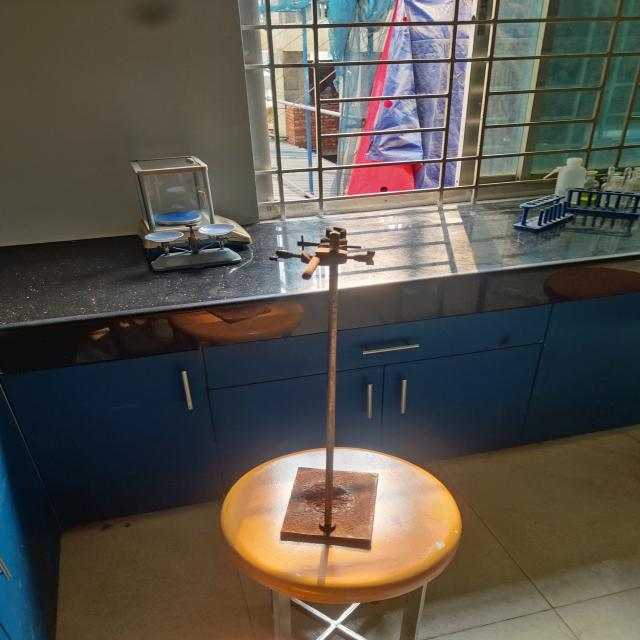Burette_Stands: (263, 206, 440, 582)
